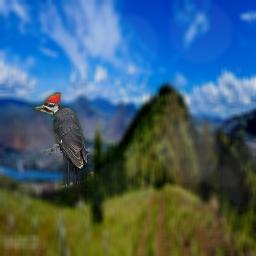Woodpecker: (33, 92, 94, 197)
